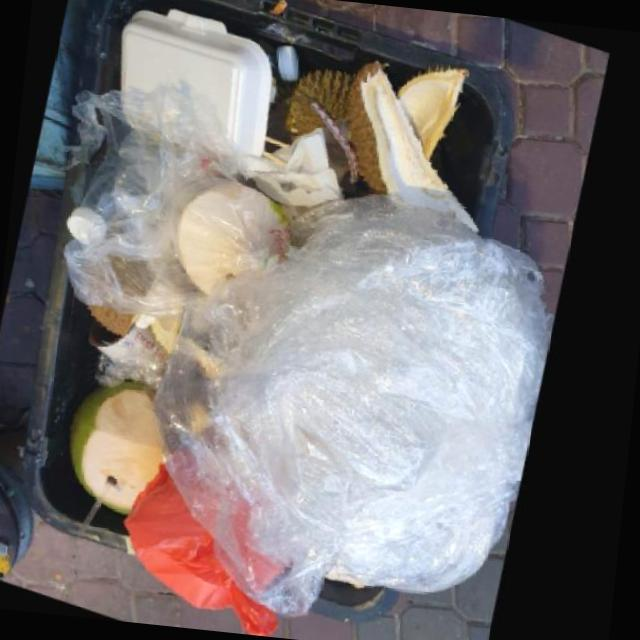giay: (253, 122, 350, 201)
hop_nhua: (127, 6, 281, 156)
ong_hut_nhua: (79, 474, 117, 533)
tui_ni_long: (156, 185, 560, 610), (125, 459, 279, 634)
vo_trai_cay: (355, 54, 484, 224), (171, 163, 297, 291), (71, 379, 166, 513), (405, 59, 476, 151), (292, 63, 363, 133)
